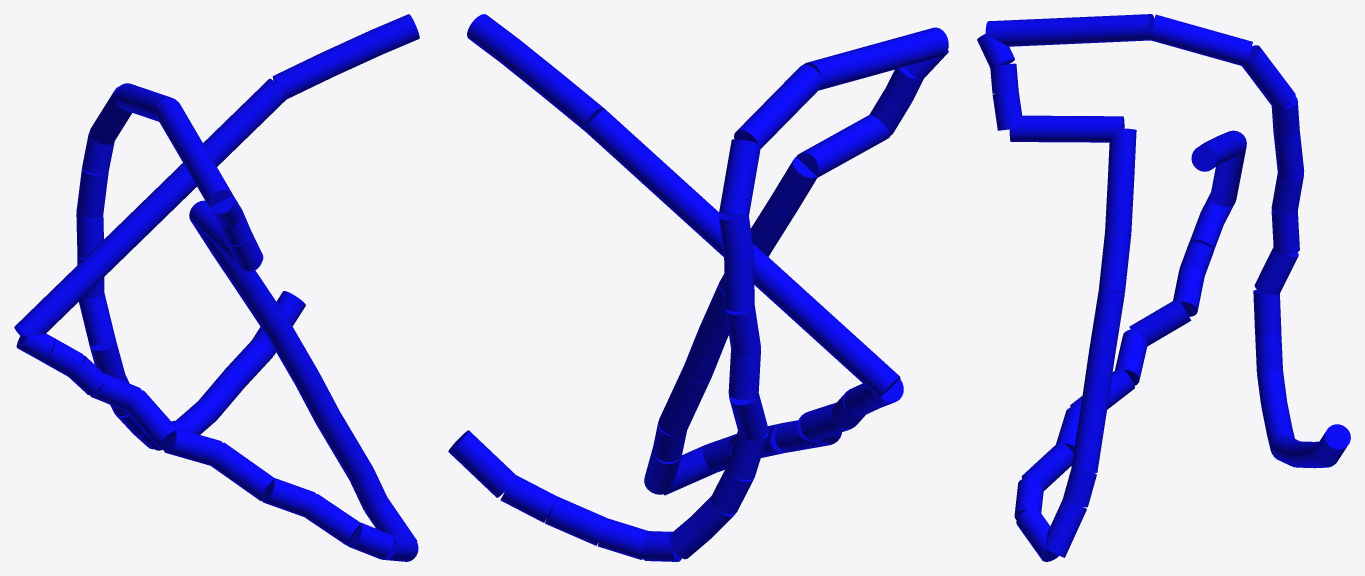
3 views of the same model, side by side, from view 1: azimuth 30°, elevation 25°; view 2: azimuth 150°, elevation 25°; view 3: azimuth 270°, elevation 25° (orthographic). The views are drawn at different scales.
Visible parts, largest first — view 1: Cylinder(Clone) (×38); view 2: Cylinder(Clone) (×37); view 3: Cylinder(Clone) (×38).
Boxes of the visible parts, box(x1,y1,x2,y2) form: Cylinder(Clone) (×38): box(14, 14, 419, 561); Cylinder(Clone) (×37): box(448, 14, 948, 561); Cylinder(Clone) (×38): box(977, 14, 1350, 561).
Size of the model in its own units: 0.1676 by 0.1915 by 0.1414.
